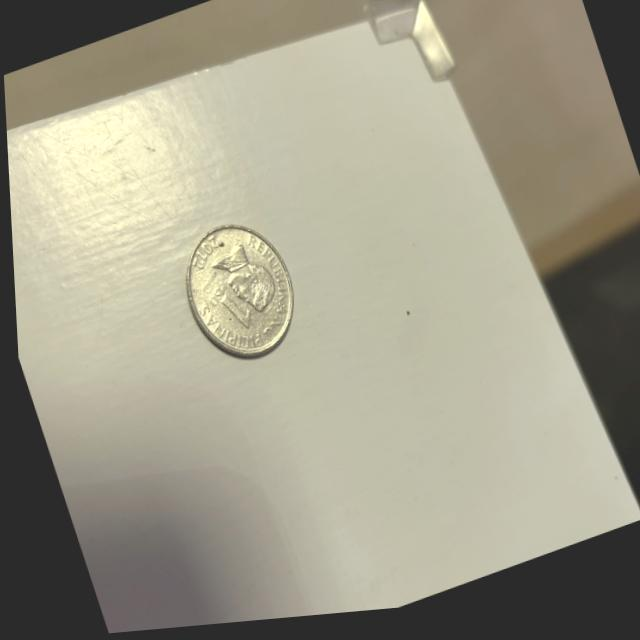1_Old_Front: (196, 277, 250, 345)
